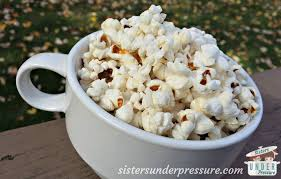popcorn: (71, 3, 264, 146)
